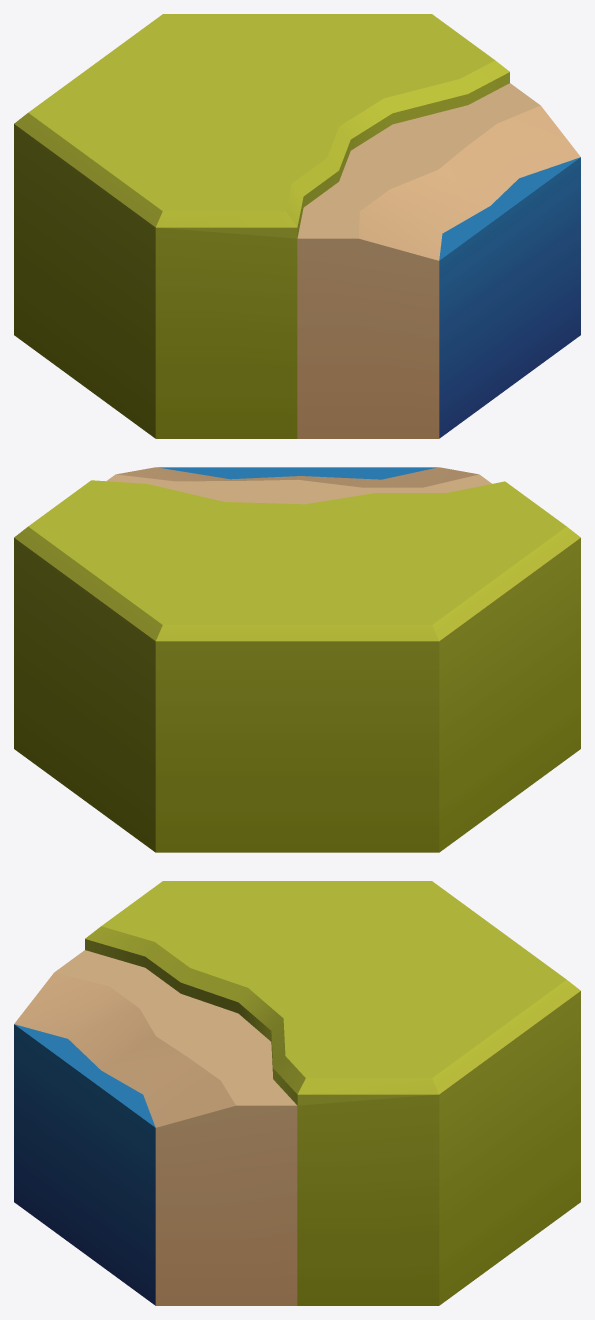
Rendered from hex_coast_a.glb.
3 views of the same model, one above another, from view 1: azimuth 30°, elevation 25°; view 2: azimuth 150°, elevation 25°; view 3: azimuth 270°, elevation 25° (orthographic).
Visible parts, largest first — view 1: hex_coast_A; view 2: hex_coast_A; view 3: hex_coast_A.
Part boxes in pixels (x1,y1,x2,y2): hex_coast_A: (14,14,580,438); hex_coast_A: (14,467,580,852); hex_coast_A: (14,881,580,1305).
Size of the model in its own units: 2 by 1 by 2.31.
1 material, 1 textured.
